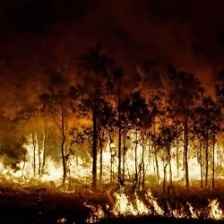fire: (1, 127, 224, 185), (82, 192, 224, 221)
